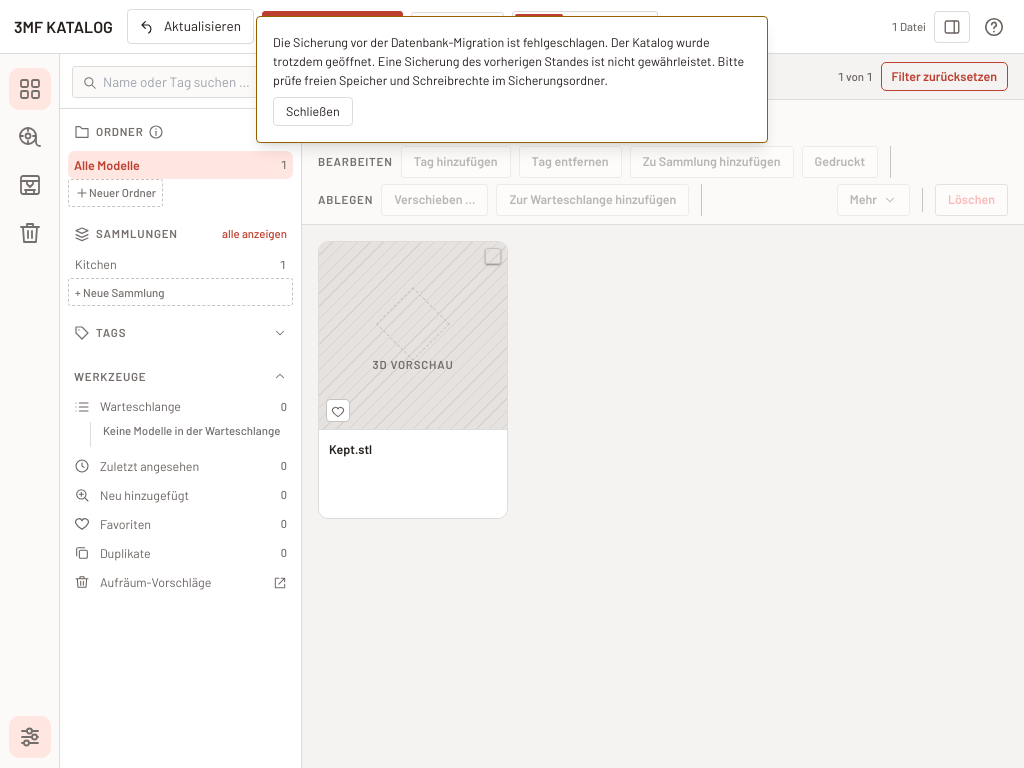
Test: deletes through the sidebar hook, preserves models and retains gallery=true
This screenshot has width=1024, height=768.
Click the button "Kitchen 1": {"x": 96, "y": 264} left=75, top=256, right=286, bottom=272
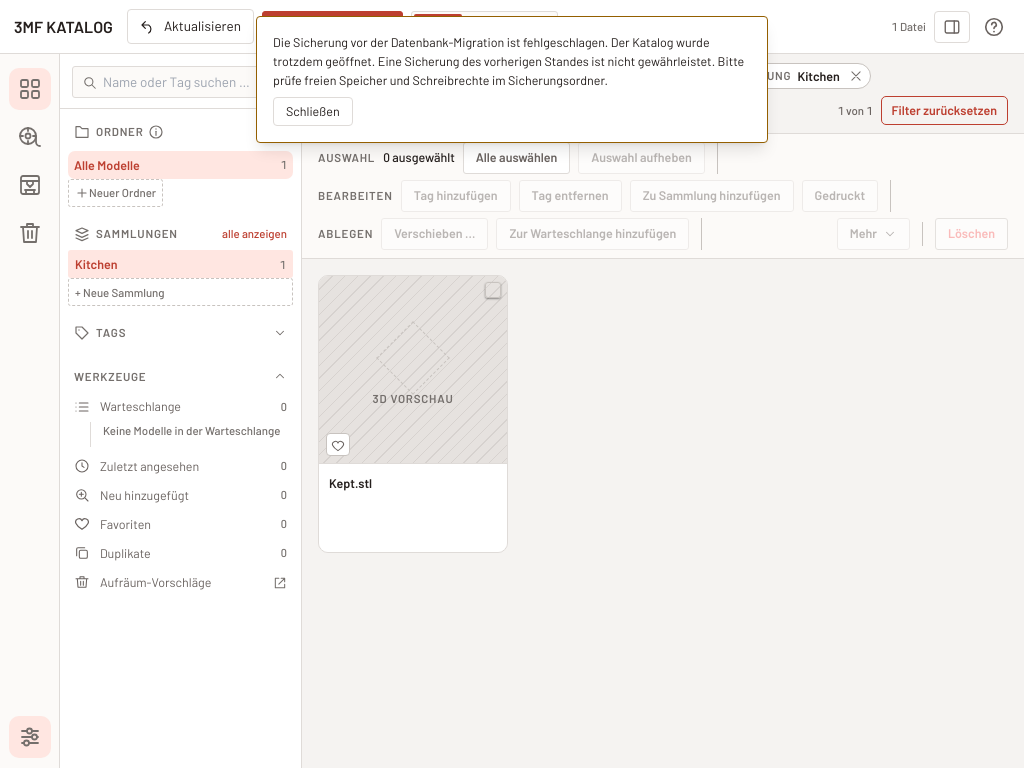
Click the text "alle anzeigen": {"x": 255, "y": 234} left=222, top=225, right=287, bottom=242
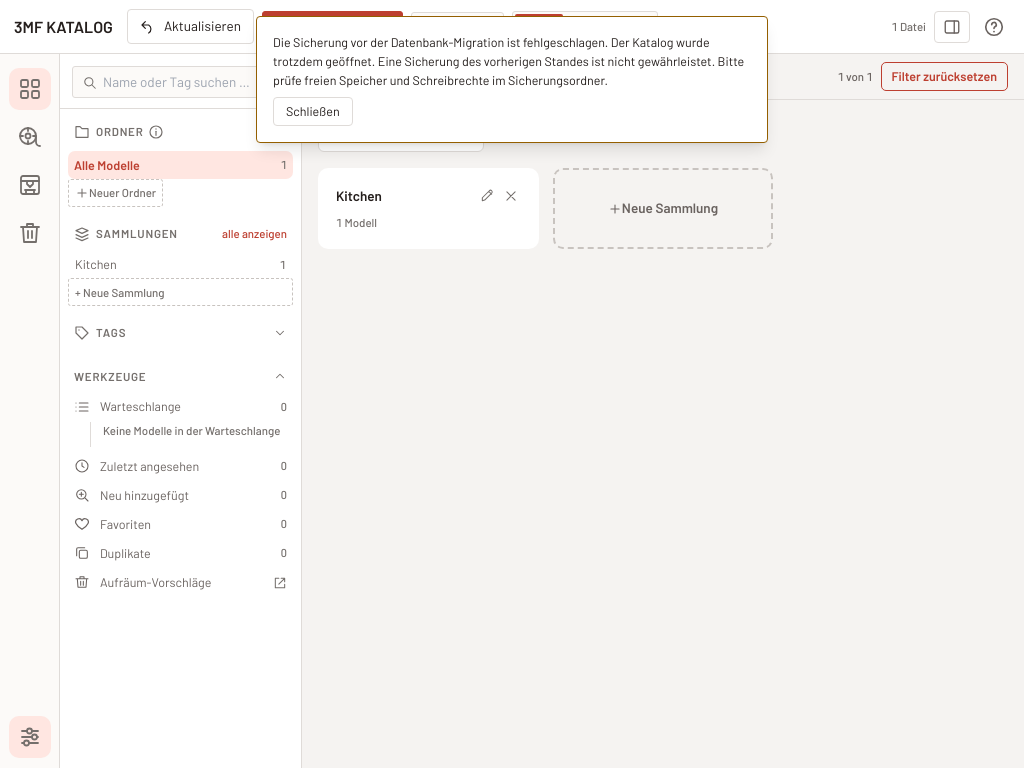
Right-click the button "Kitchen 1": {"x": 96, "y": 264} left=75, top=256, right=286, bottom=272
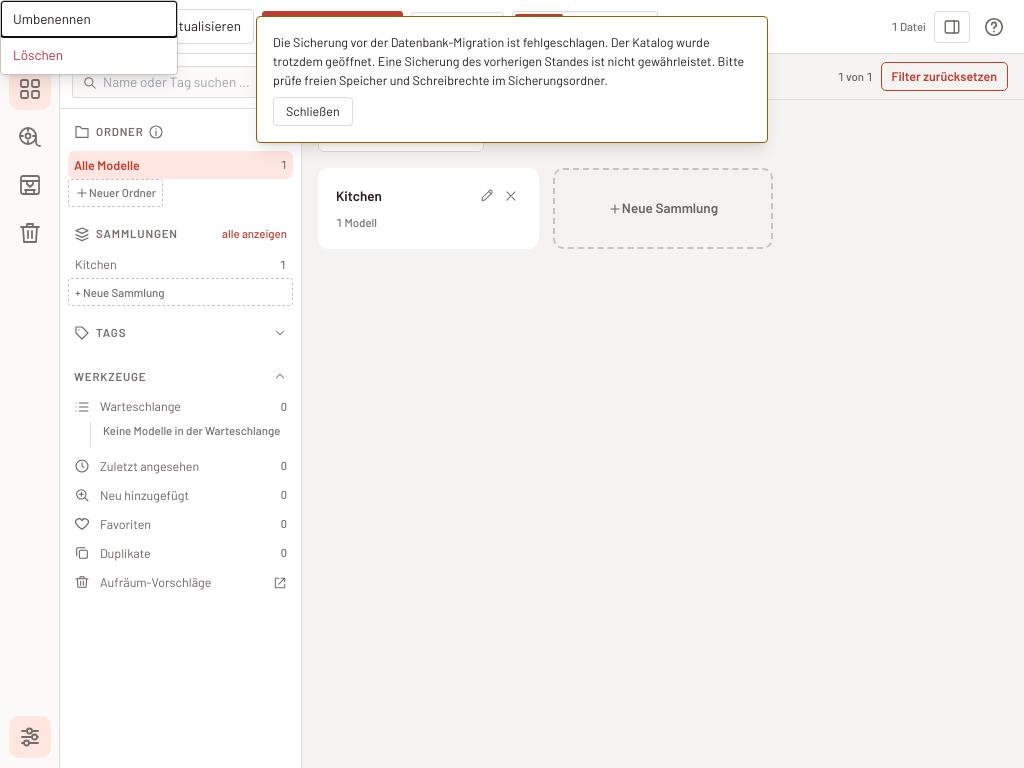
Note: The always-visible selection bar has its own (disabled) delete button.
Click the button "Löschen": {"x": 89, "y": 55} left=1, top=37, right=177, bottom=74
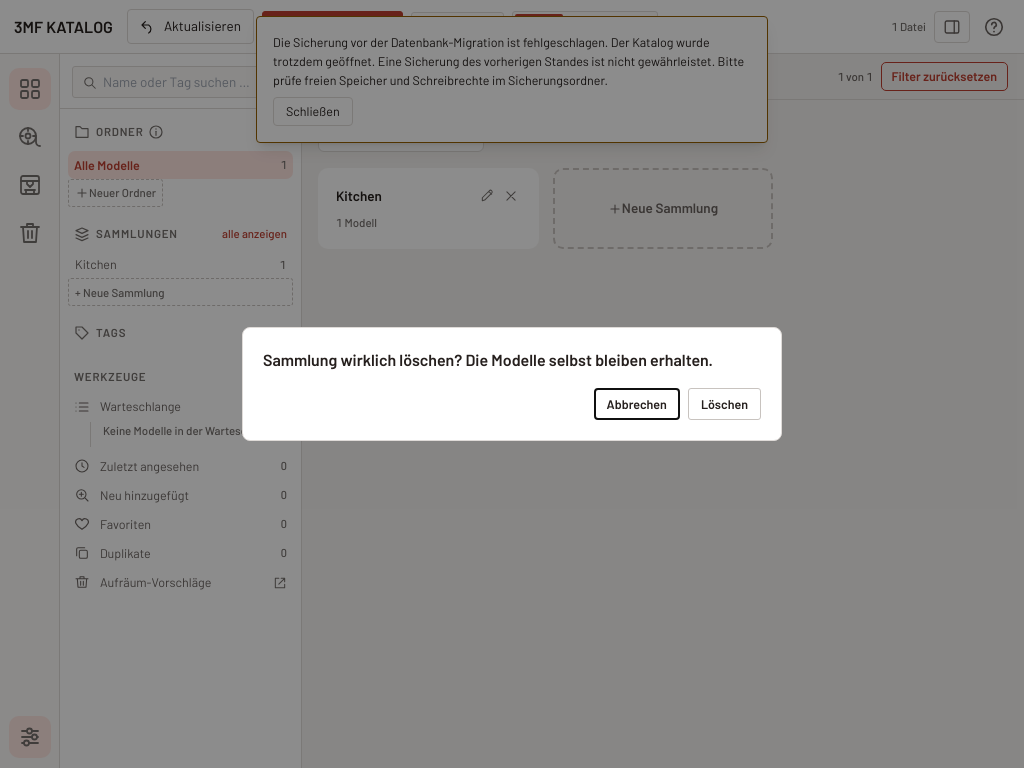
Click the button "Löschen": {"x": 724, "y": 404} left=688, top=388, right=761, bottom=420
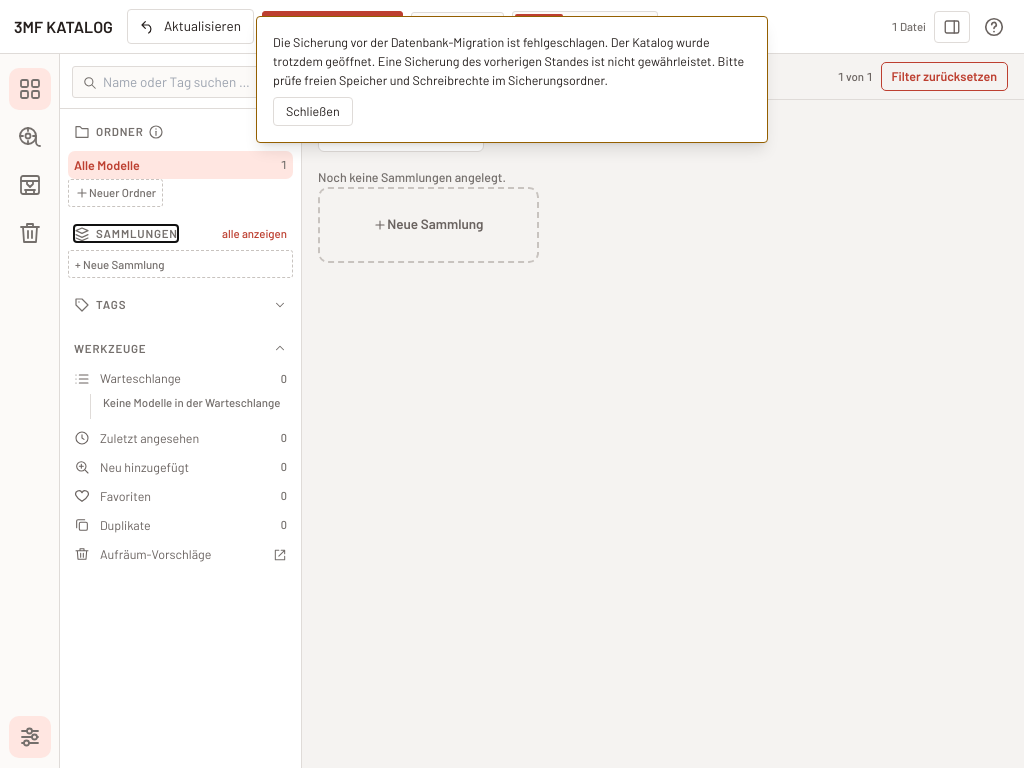
Expected: the button "Kitchen" is gone
Expected: the text "Noch keine Sammlungen angelegt." is shown, left=318, top=169, right=506, bottom=185
